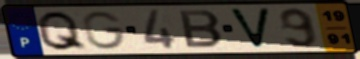4: (141, 8, 179, 51)
9: (278, 7, 319, 50)
B: (177, 9, 226, 49)
G: (81, 10, 128, 51)
Q: (34, 9, 90, 52)
V: (226, 7, 273, 50)
